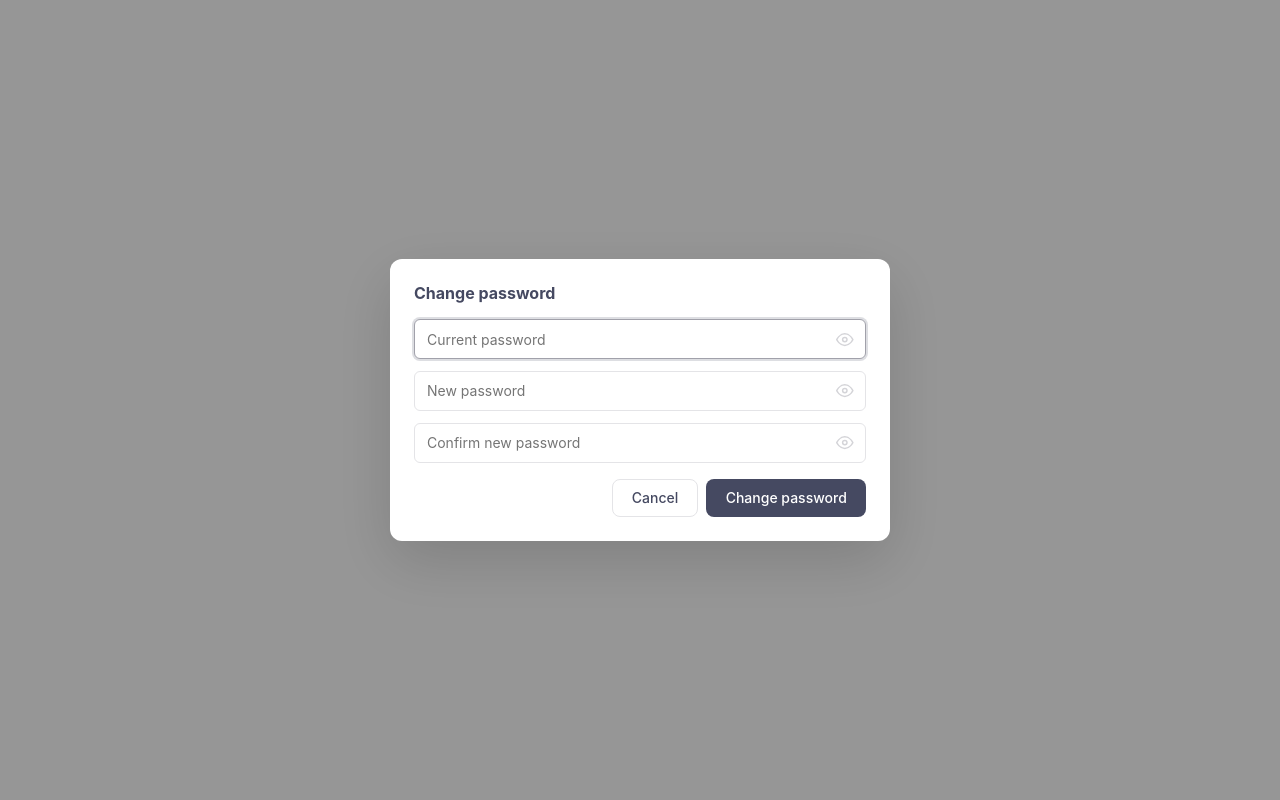
Test: ChangePasswordModal › shows error when passwords don't match
This screenshot has width=1280, height=800.
Type "old" into the password field with placeholder "Current password".
click(640, 339); type("old")  # box 414,319 -> 866,359
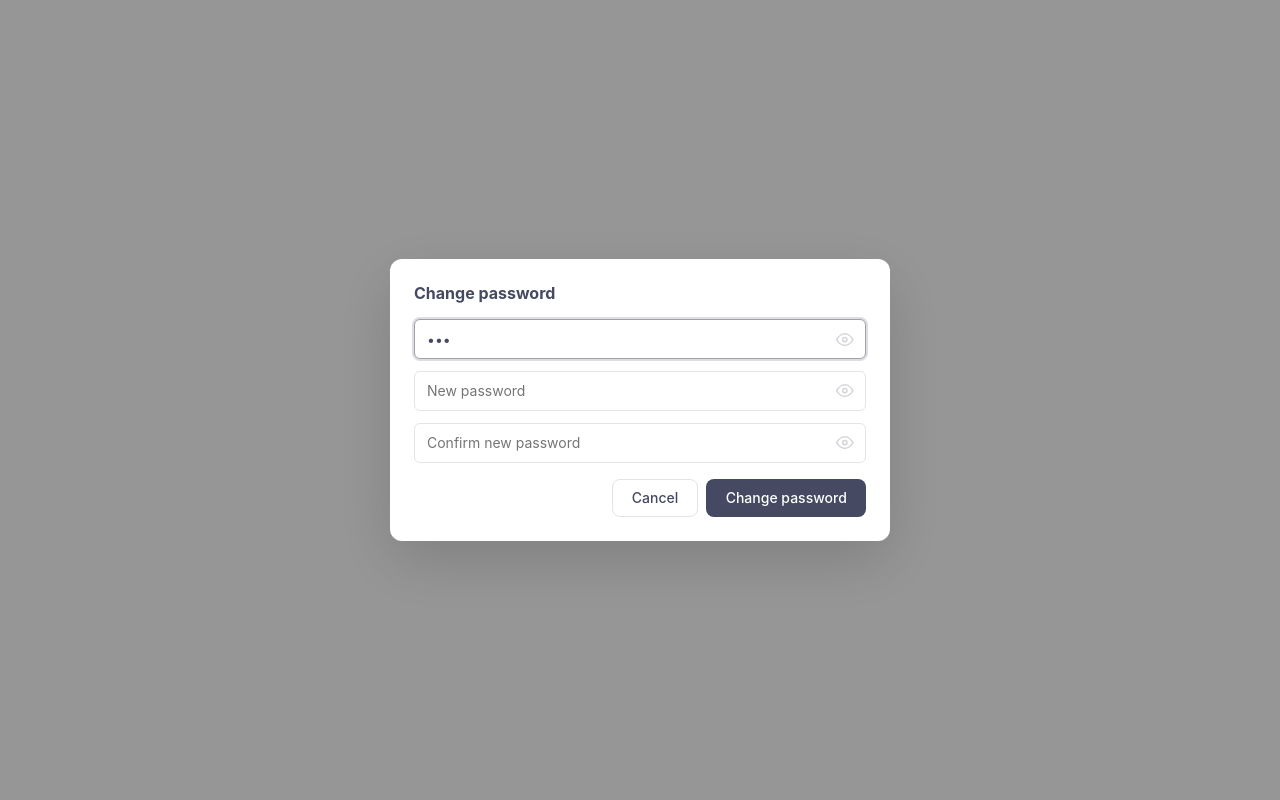
Type "aaa" into the password field with placeholder "New password".
click(640, 391); type("aaa")  # box 414,371 -> 866,411
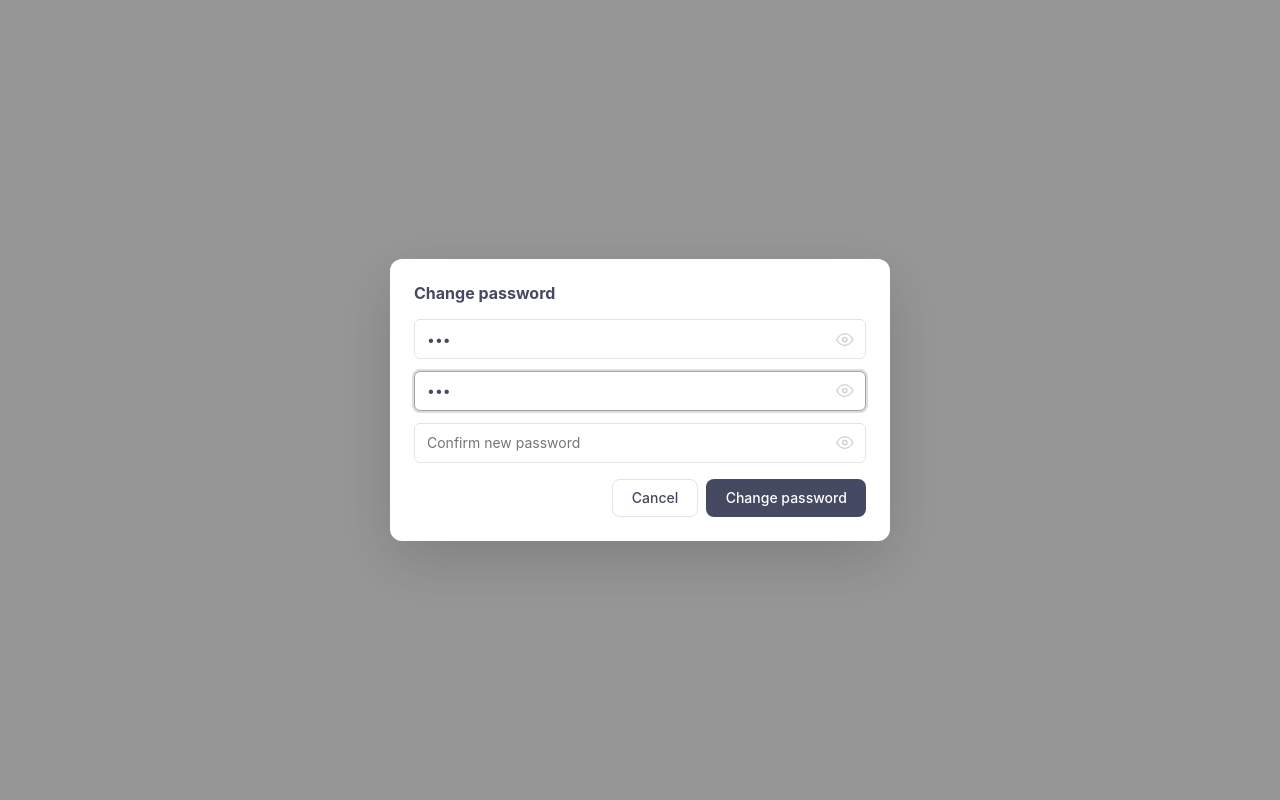
Type "bbb" into the password field with placeholder "Confirm new password".
click(640, 443); type("bbb")  # box 414,423 -> 866,463
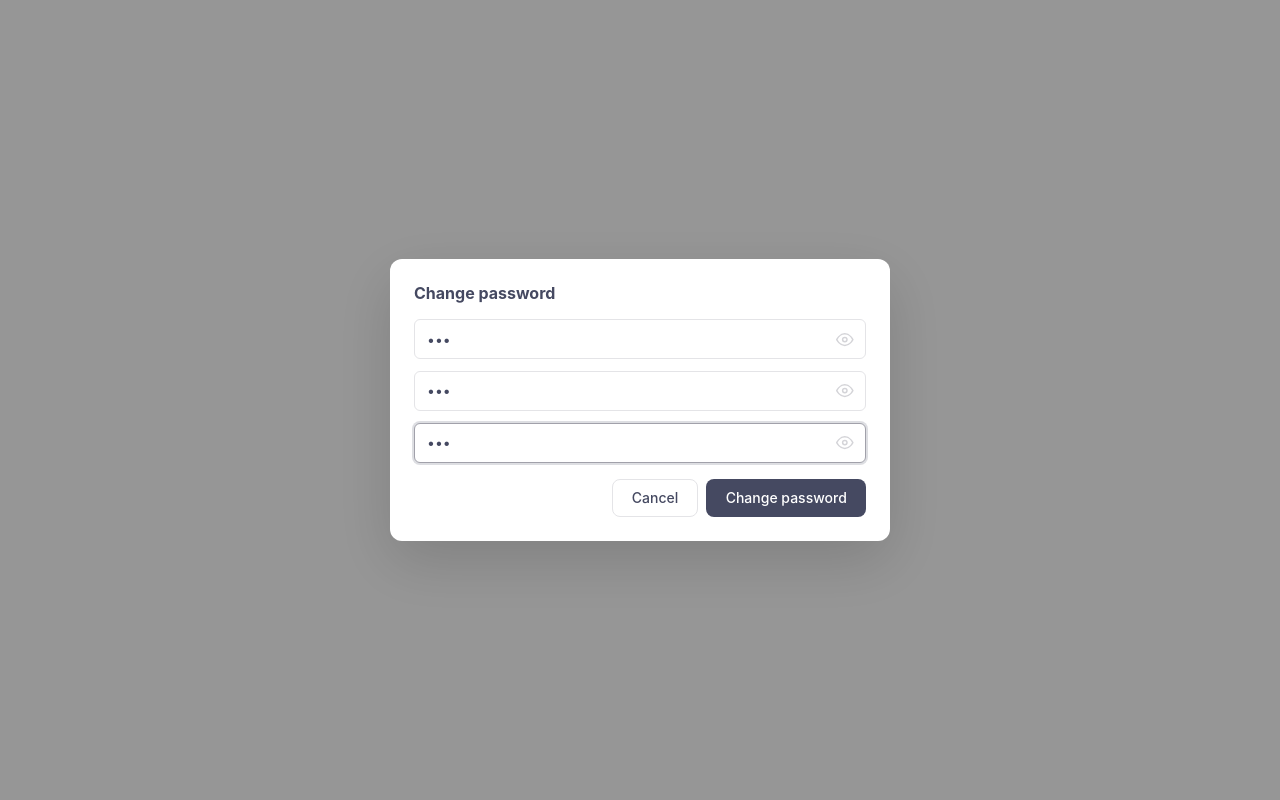
Click the button "Change password".
click(786, 498)  # box 706,479 -> 866,517
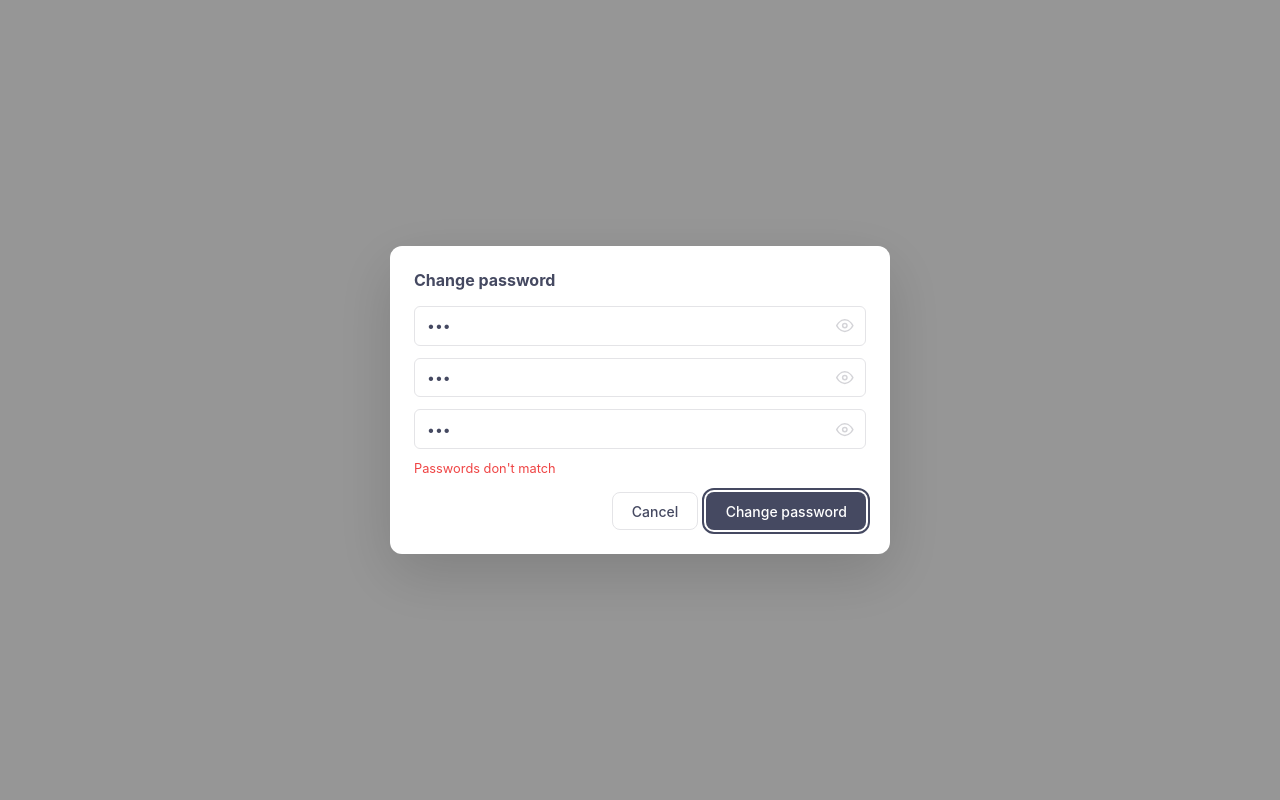
expect the text "Passwords don't match" is shown: met, box 414,461 -> 556,476
